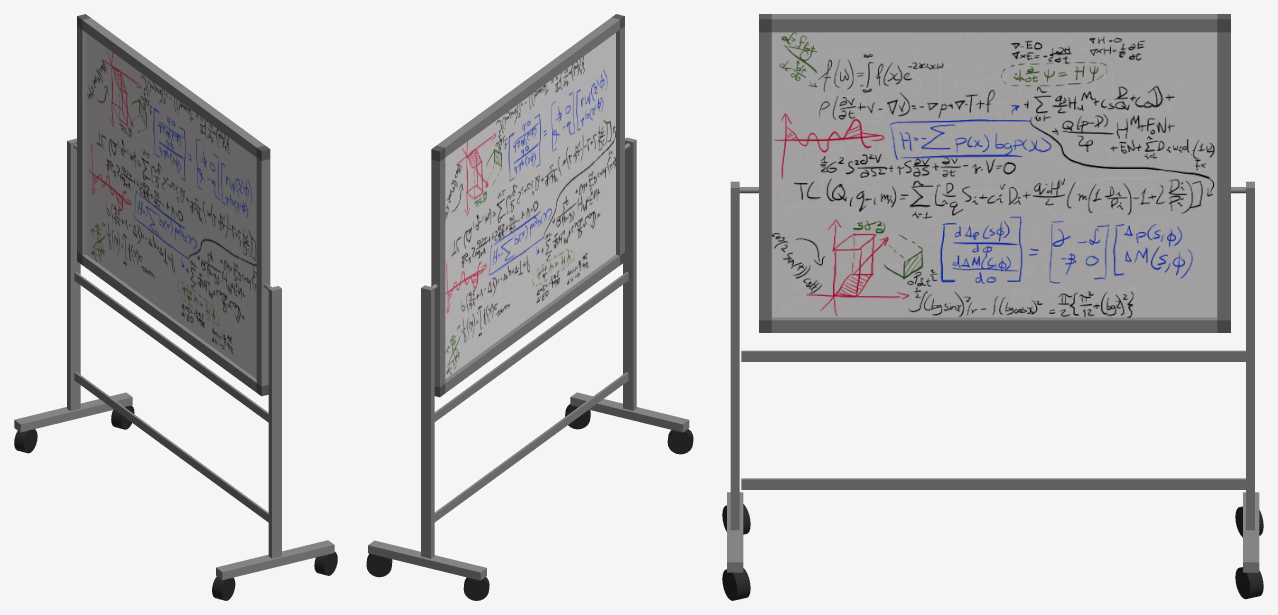
The model's file is whiteboard.glb.
The picture shows the model from 3 angles, left to right: view 1: azimuth 30°, elevation 25°; view 2: azimuth 150°, elevation 25°; view 3: azimuth 270°, elevation 25°; orthographic projection. The views are drawn at different scales.
Parts seen in each view (by area): view 1: pCube1, pCube3; view 2: pCube1, pCube3; view 3: pCube1, pCube3.
Part boxes in pixels (x1=…): pCube1: x1=77, y1=14, x2=270, y2=396; pCube3: x1=14, y1=138, x2=337, y2=600; pCube1: x1=431, y1=14, x2=624, y2=397; pCube3: x1=366, y1=137, x2=693, y2=600; pCube1: x1=759, y1=14, x2=1230, y2=332; pCube3: x1=722, y1=181, x2=1263, y2=600.
Size of the model in its own units: 4.62 by 15 by 13.39.
Materials: 4 (1 with a texture image).
